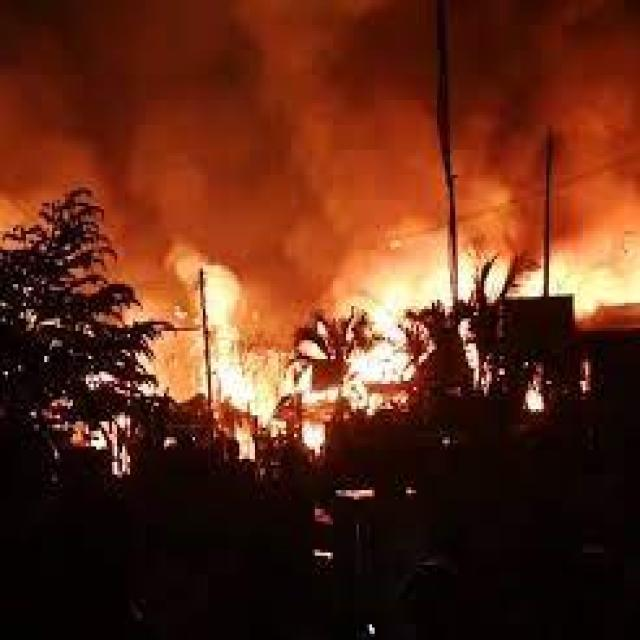Fire: (374, 282, 563, 403), (202, 270, 328, 430), (566, 230, 640, 314)
Smoke: (0, 0, 640, 268)
